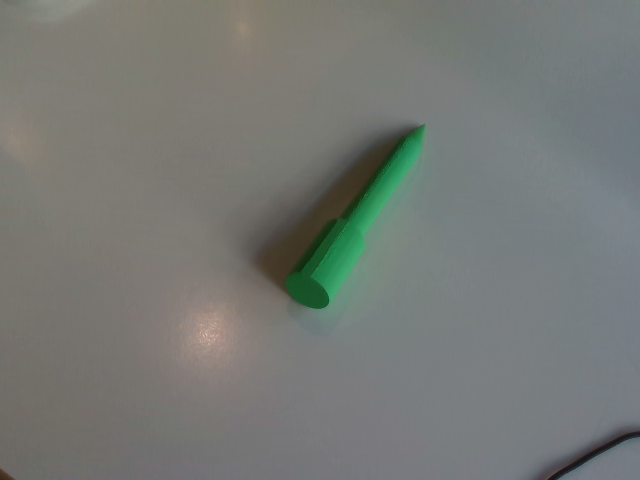Probe: (281, 114, 435, 311)
